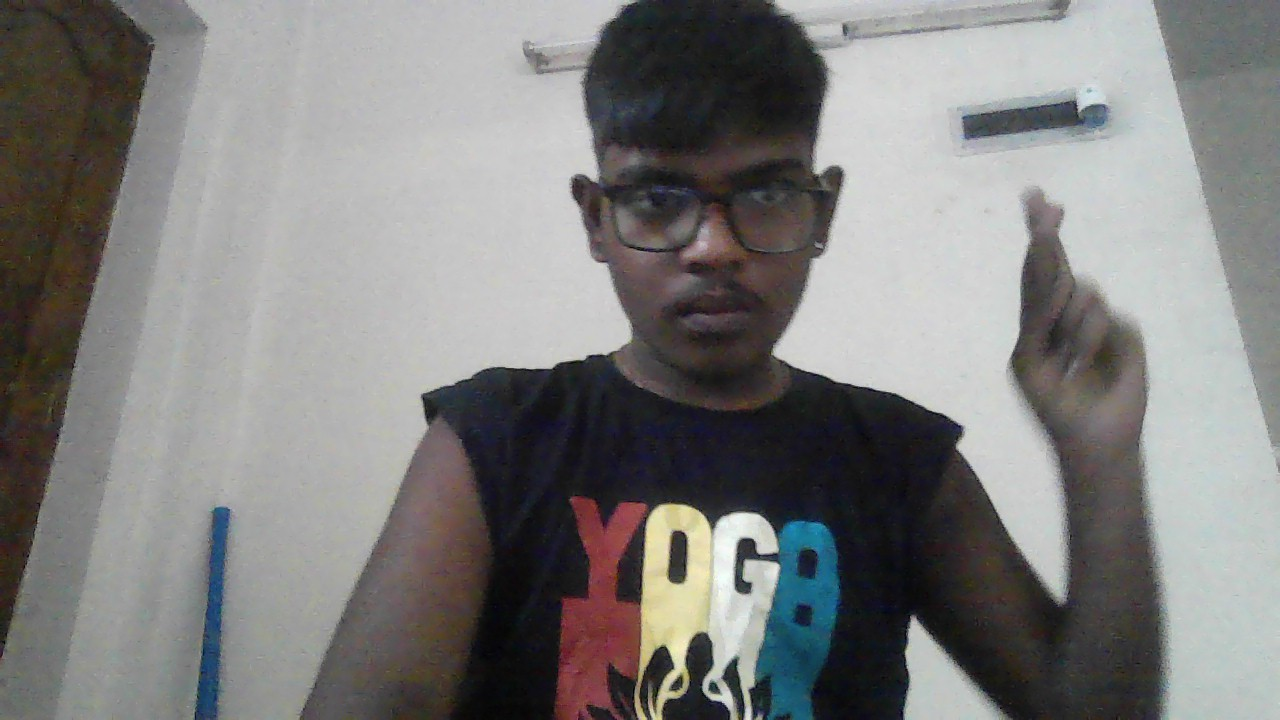R: (1009, 187, 1148, 457)
